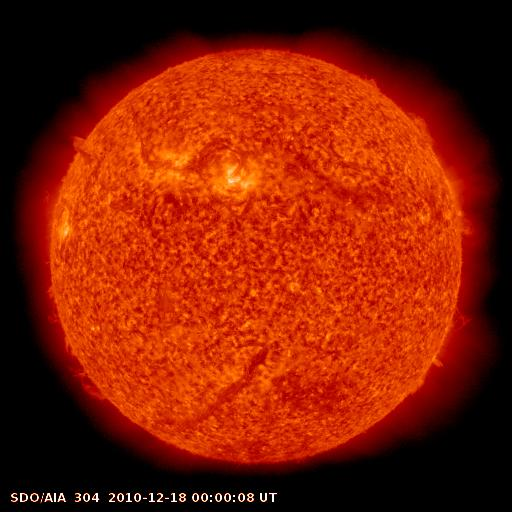prominence: (58, 334, 123, 415), (427, 299, 479, 374), (26, 275, 72, 336), (57, 123, 108, 174), (406, 106, 442, 154), (351, 62, 389, 103)
